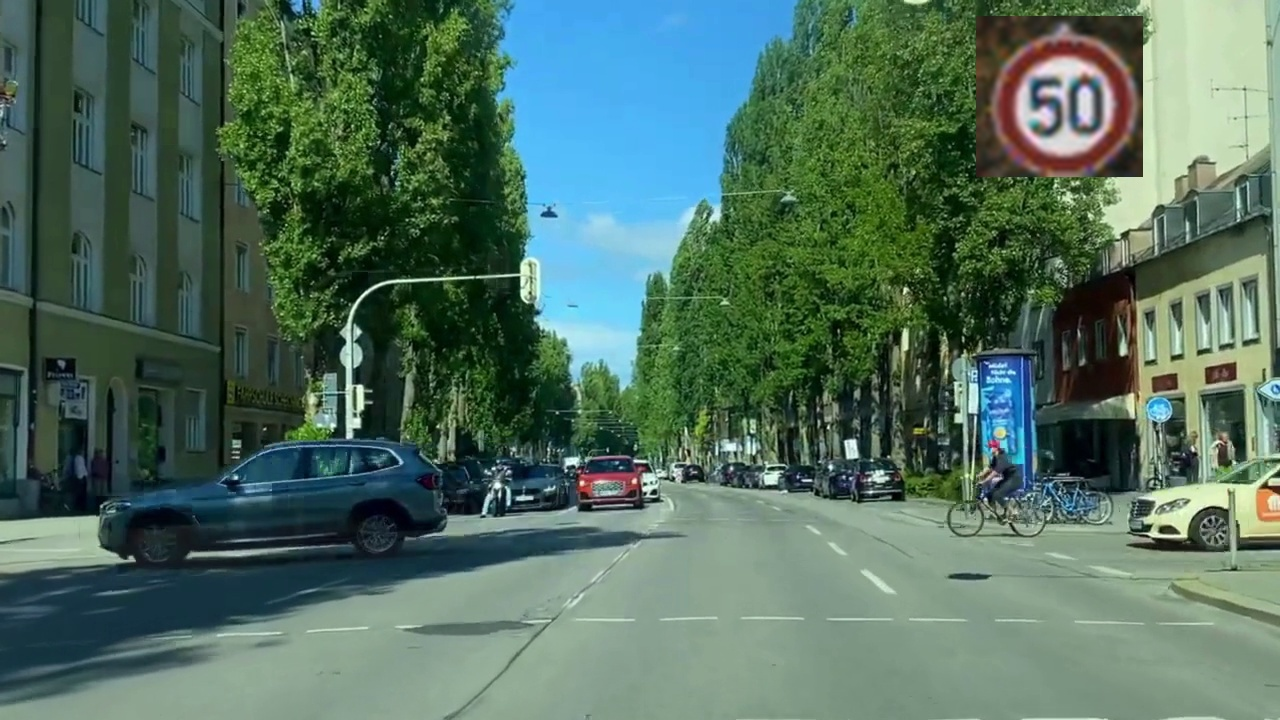Speed 50: (976, 16, 1143, 177)
